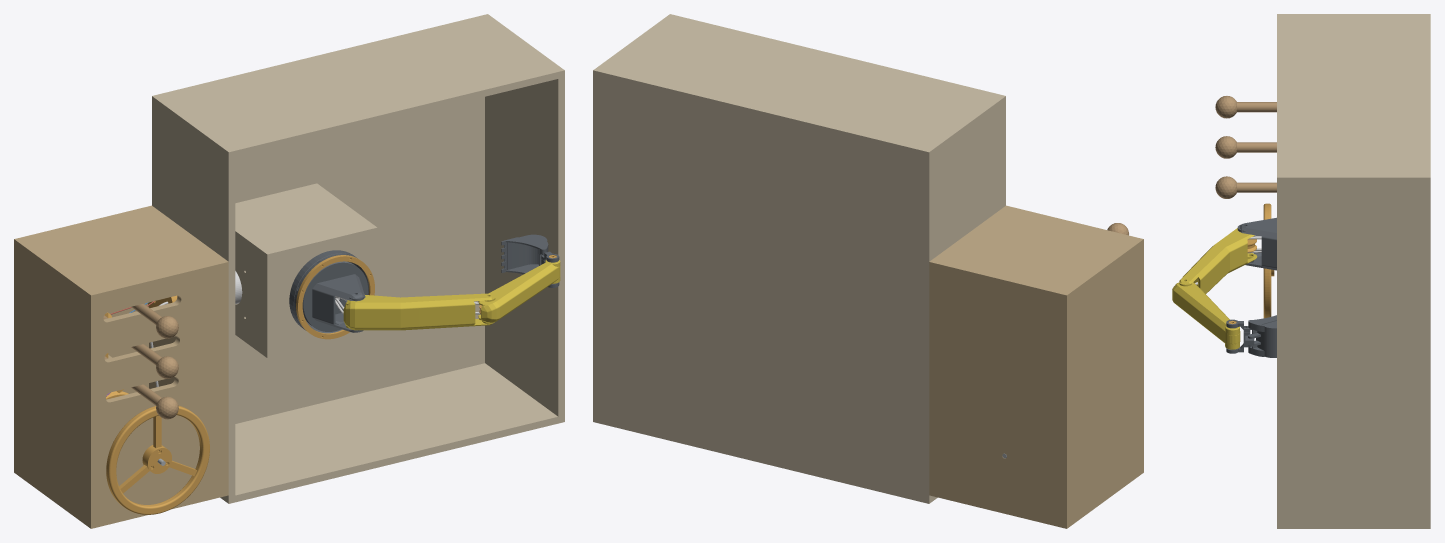
The model's file is 2026-09-24-ex-ma-assembly.glb.
The picture shows the model from 3 angles, left to right: view 1: azimuth 30°, elevation 25°; view 2: azimuth 150°, elevation 25°; view 3: azimuth 270°, elevation 25°; orthographic projection.
Parts seen in each view (by area): view 1: sandbox floor, box top (removable), sandbox wall +v, sandbox wall -v, sandbox wall +u, box rear, sandbox wall -u (box side), box left side, pedestal top, pedestal wall +v, slew-wheel, tower (+12 smaller); view 2: sandbox floor, box floor, sandbox wall +v, box rear, box left side, sandbox wall -u (box side), box top (removable); view 3: sandbox wall +u, sandbox wall +v, sandbox floor, boom-half-left, stick-half-left, tower, bucket, boom handle, stick handle, bucket handle, slew-wheel, sandbox wall -u (box side) (+2 smaller).
Boxes of the visible parts, x1=… form: sandbox floor: x1=152, y1=14, x2=491, y2=423; box top (removable): x1=87, y1=259, x2=228, y2=528; sandbox wall +v: x1=162, y1=18, x2=558, y2=157; sandbox wall -v: x1=235, y1=363, x2=558, y2=502; sandbox wall +u: x1=485, y1=17, x2=564, y2=423; box rear: x1=18, y1=240, x2=93, y2=525; sandbox wall -u (box side): x1=155, y1=97, x2=235, y2=503; box left side: x1=25, y1=210, x2=217, y2=290; pedestal top: x1=263, y1=225, x2=377, y2=357; pedestal wall +v: x1=235, y1=185, x2=366, y2=249; slew-wheel: x1=106, y1=406, x2=209, y2=514; tower: x1=302, y1=261, x2=367, y2=332; sandbox floor: x1=593, y1=67, x2=932, y2=503; box floor: x1=929, y1=259, x2=1070, y2=528; sandbox wall +v: x1=604, y1=15, x2=998, y2=147; box rear: x1=1064, y1=240, x2=1139, y2=525; box left side: x1=940, y1=210, x2=1132, y2=290; sandbox wall -u (box side): x1=927, y1=94, x2=1005, y2=500; box top (removable): x1=1003, y1=205, x2=1143, y2=474; sandbox wall +u: x1=1277, y1=174, x2=1422, y2=528; sandbox wall +v: x1=1277, y1=17, x2=1422, y2=174; sandbox floor: x1=1423, y1=14, x2=1430, y2=528; boom-half-left: x1=1179, y1=228, x2=1254, y2=288; stick-half-left: x1=1172, y1=282, x2=1240, y2=339; tower: x1=1237, y1=217, x2=1276, y2=270; bucket: x1=1243, y1=315, x2=1276, y2=357; boom handle: x1=1215, y1=96, x2=1276, y2=118; stick handle: x1=1215, y1=136, x2=1276, y2=158; bucket handle: x1=1215, y1=176, x2=1276, y2=198; slew-wheel: x1=1263, y1=203, x2=1271, y2=318; sandbox wall -u (box side): x1=1277, y1=14, x2=1422, y2=17.
Bounding box in the file's own units: 860 × 610 × 407.
